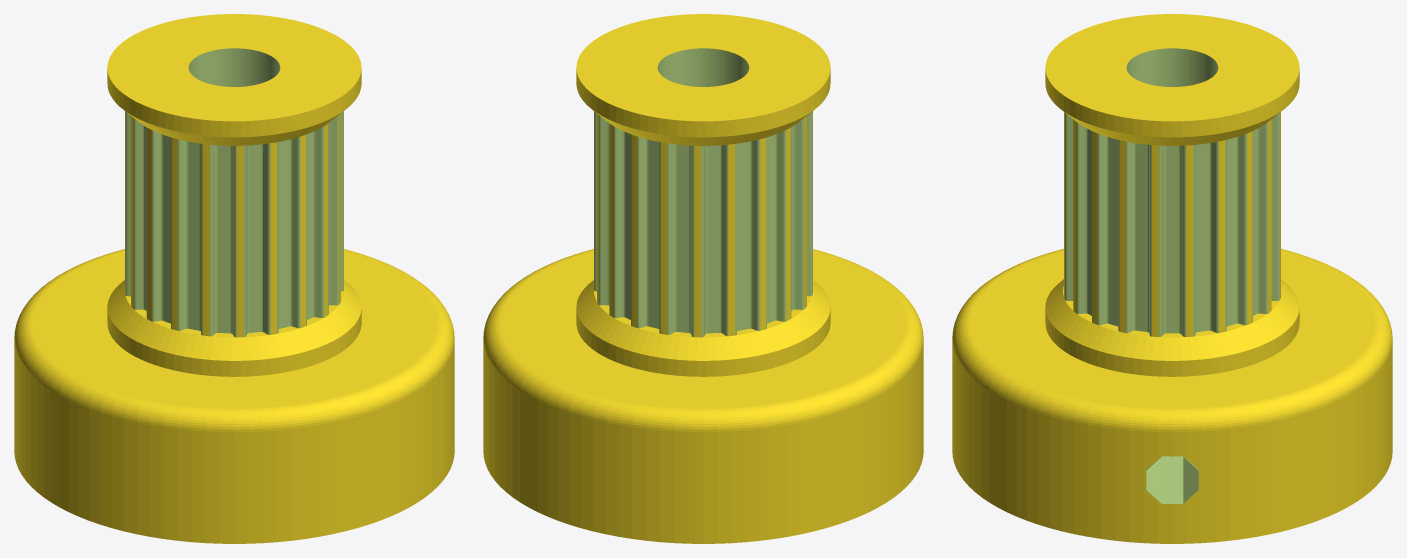
File: openscad_parametric-pulley.glb
The picture shows the model from 3 angles, left to right: view 1: azimuth 30°, elevation 25°; view 2: azimuth 150°, elevation 25°; view 3: azimuth 270°, elevation 25°; orthographic projection.
Parts seen in each view (by area): view 1: object; view 2: object; view 3: object.
Boxes of the visible parts, x1,y1,x2,y2 form: object: (14,14,454,543); object: (483,14,923,543); object: (952,14,1392,543).
Size of the model in its own units: 25.03 by 24 by 25.
